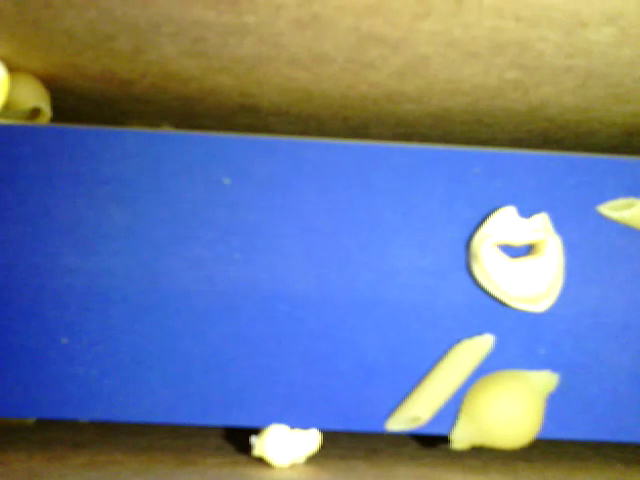penne: (381, 331, 498, 433), (593, 190, 639, 232)
shell: (446, 368, 562, 456), (1, 72, 54, 129)
tortellini: (467, 203, 564, 318)
